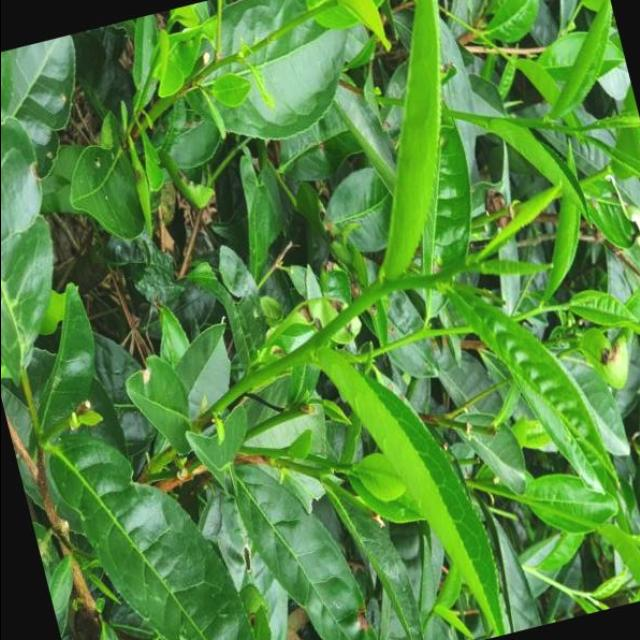Stem: (425, 276, 440, 289), (570, 127, 578, 134)
